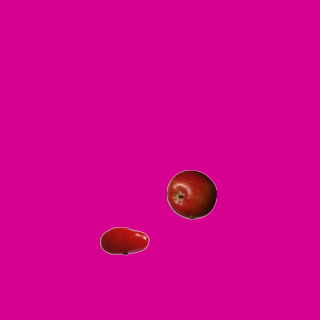Apple Braeburn: (166, 169, 216, 219)
Tomato 2: (99, 215, 149, 265)
